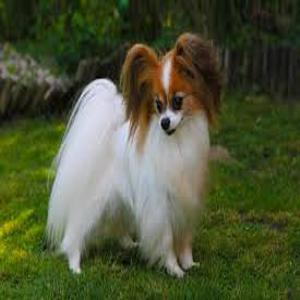yell: (44, 32, 225, 278)
